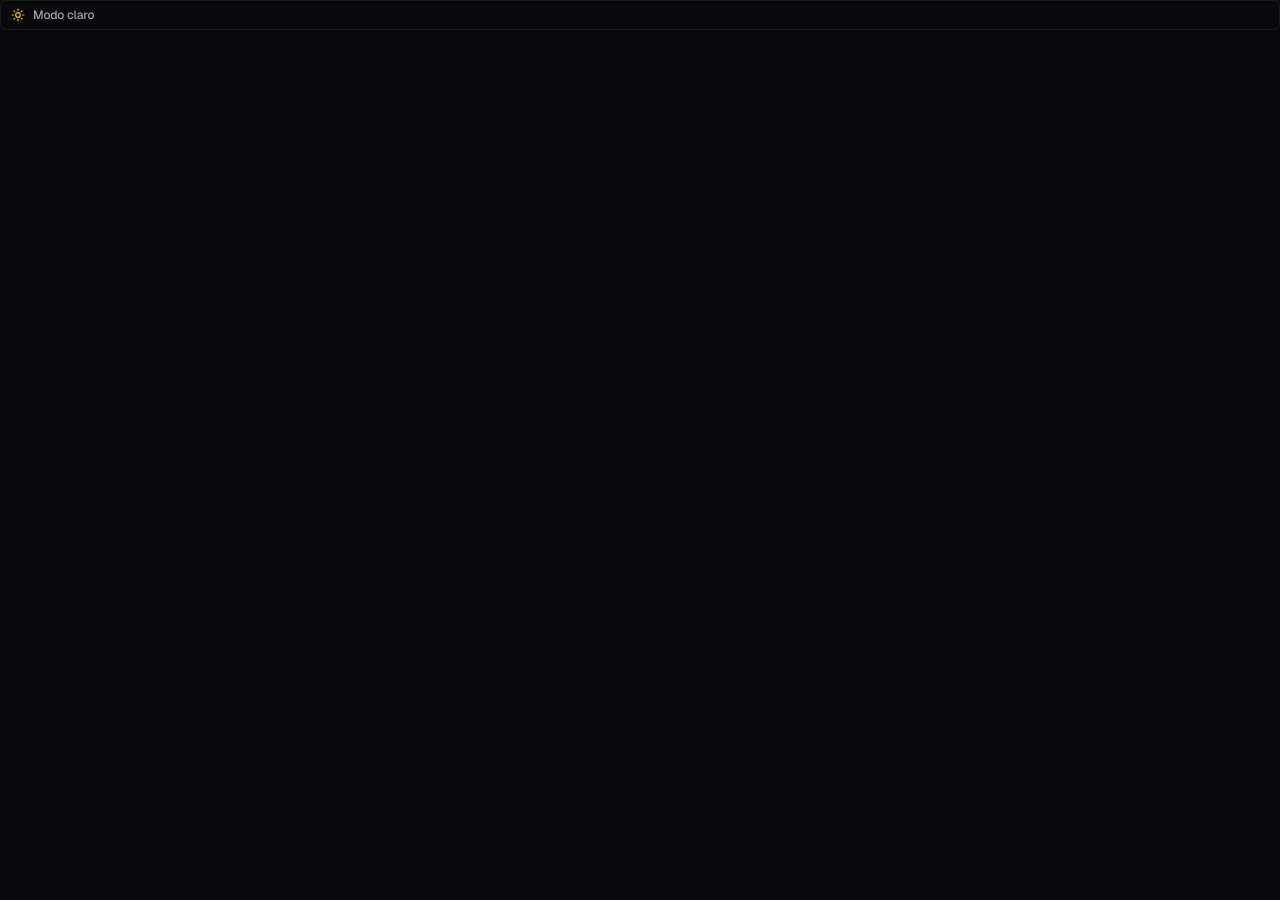
Test: ThemeToggle › cambia el tema al hacer clic
The width and height of the screenshot is (1280, 900).
Click the button: (64, 15) [0, 0, 1279, 30]
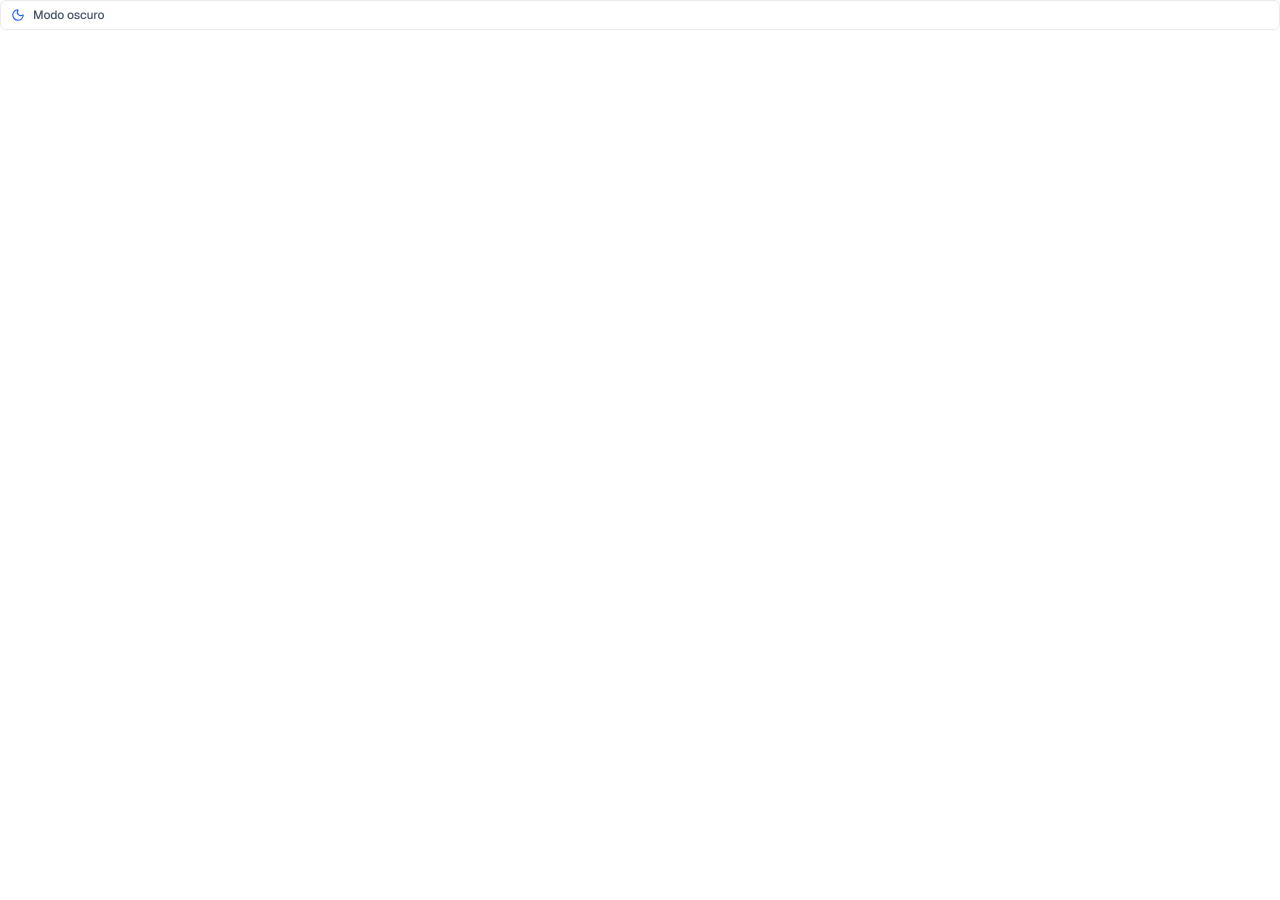
Expected: the button does not have attribute aria-label="Cambiar a modo claro", [0, 0, 1279, 30]
